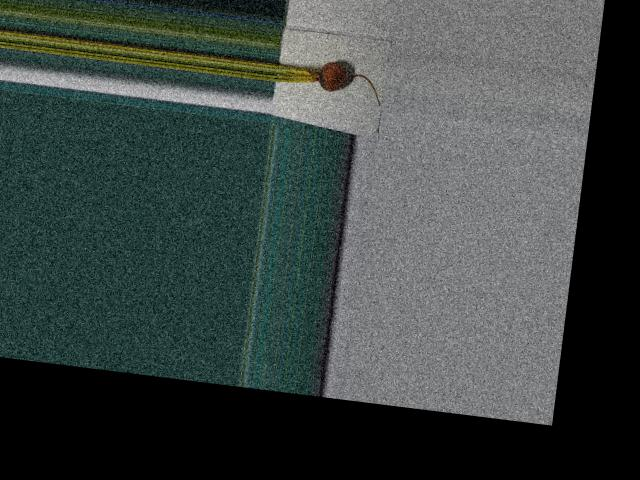beet: (274, 55, 385, 105)
